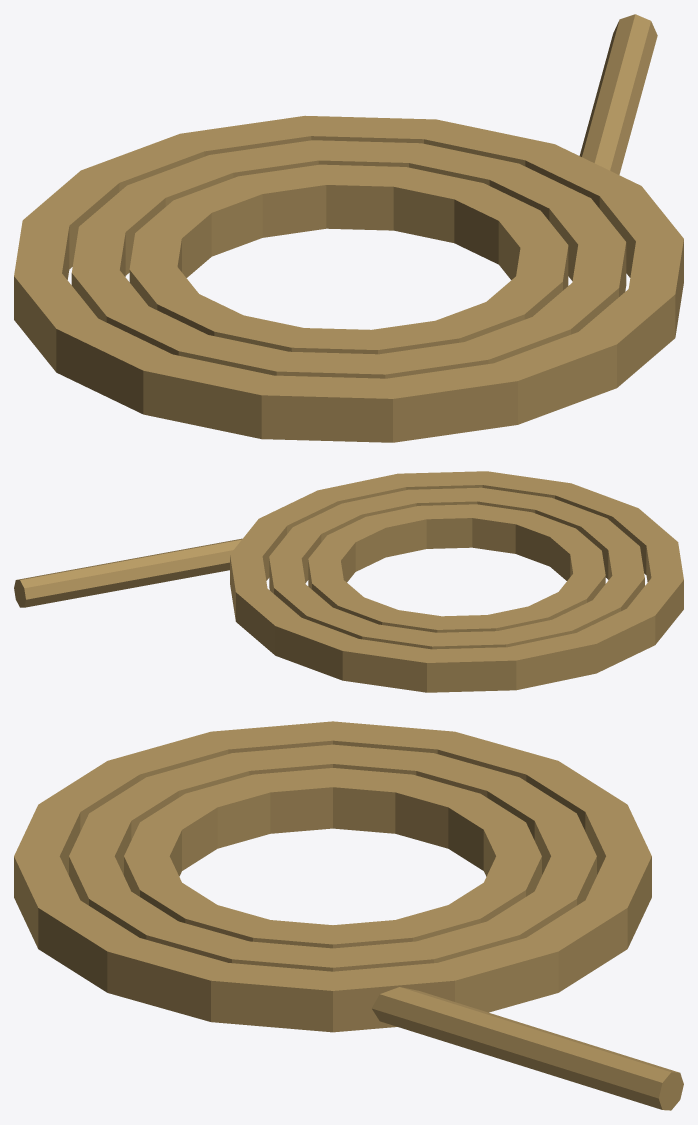
Rendered from rope-coil.glb.
3 views of the same model, one above another, from view 1: azimuth 30°, elevation 25°; view 2: azimuth 150°, elevation 25°; view 3: azimuth 270°, elevation 25° (orthographic). The views are drawn at different scales.
Visible parts, largest first — view 1: rope-coil__body; view 2: rope-coil__body; view 3: rope-coil__body.
Part boxes in pixels (box(x1,y1,x2,y2)): rope-coil__body: box(14, 14, 683, 442); rope-coil__body: box(14, 471, 683, 692); rope-coil__body: box(14, 721, 683, 1110).
Bounding box in the file's own units: 0.9971 × 0.054 × 0.7919.
